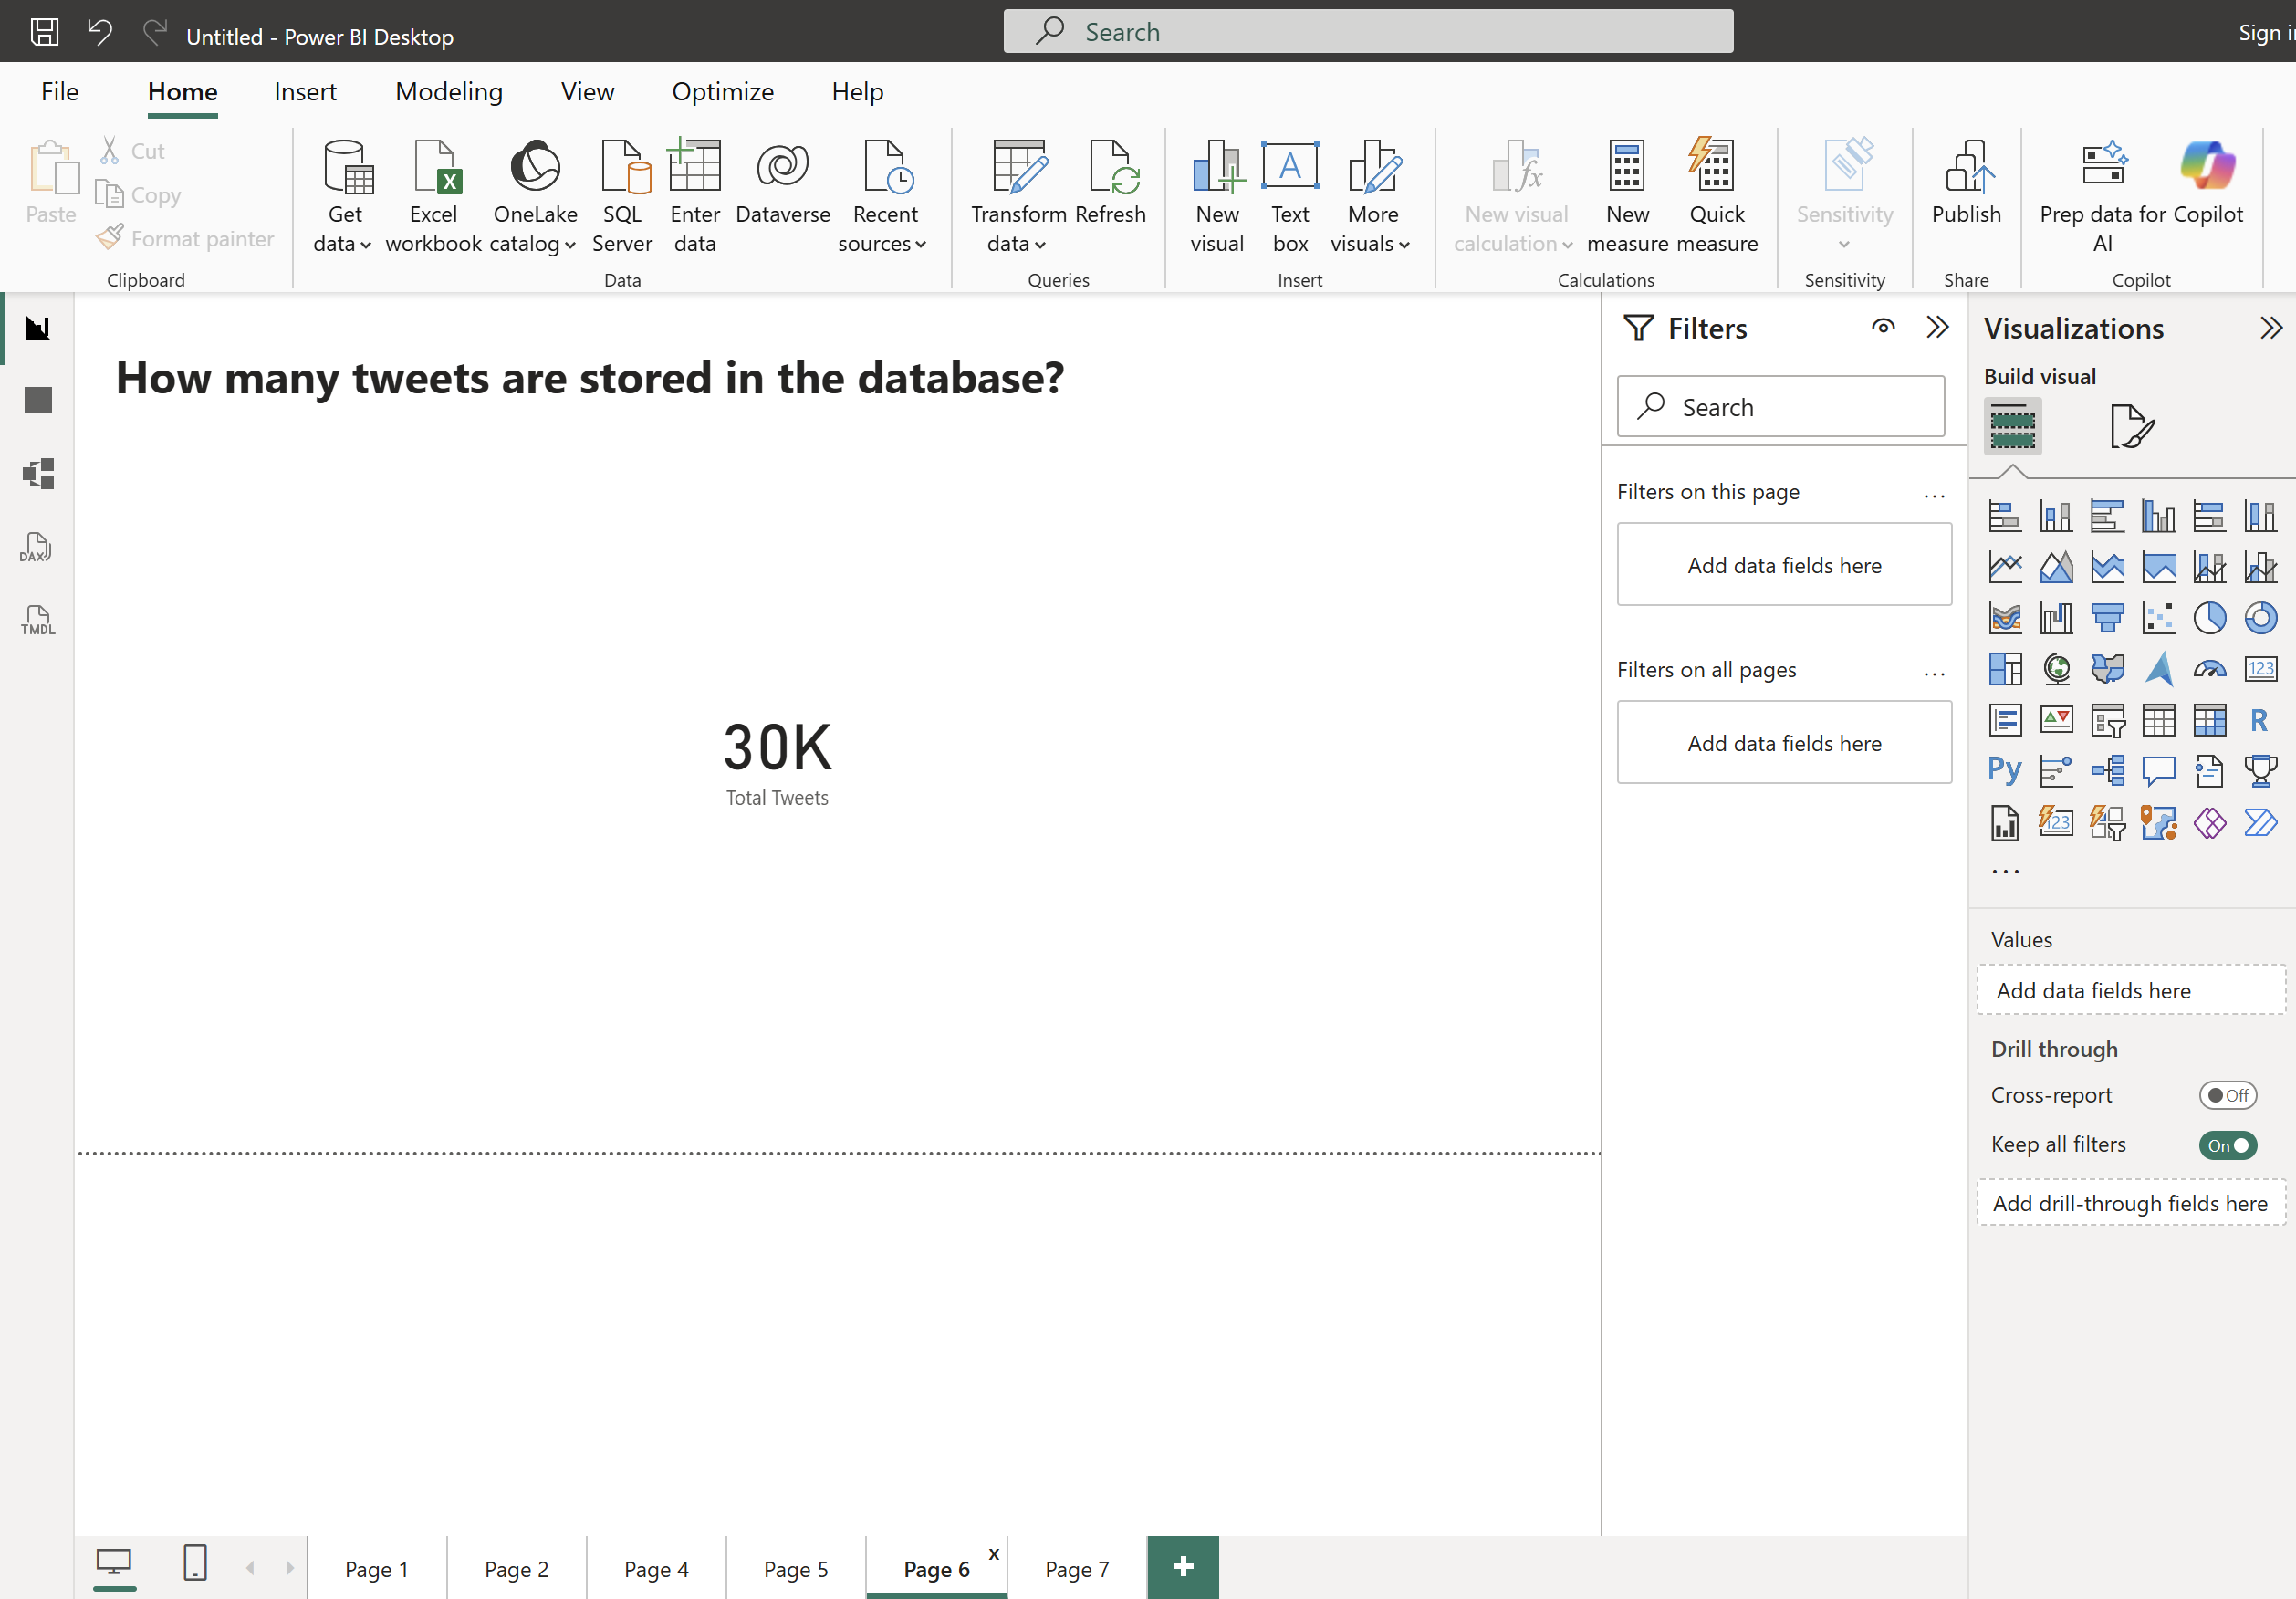

The page's visual inventory and layout, read from the dashboard file:
{"tool":"powerbi","page":{"name":"Page 6","canvas":[1280,720],"ordinal":4},"visuals":[{"type":"textbox","box":[18.4,39.8,840.6,102.6],"z":0},{"type":"card","fields":{"Values":["twitter_sentiment tweets.Total Tweets"]},"box":[320,266.4,538.9,237.3],"z":1000}]}

Visuals, with their boxes on the page's 1280x720 design canvas (x1, y1, x2, y2). These are canvas units, not pixel positions in the 2296x1599 screenshot, which may show the page scaled, cropped or inside an application window:
textbox: box(18, 40, 859, 142)
card - twitter_sentiment tweets.Total Tweets: box(320, 266, 859, 504)
